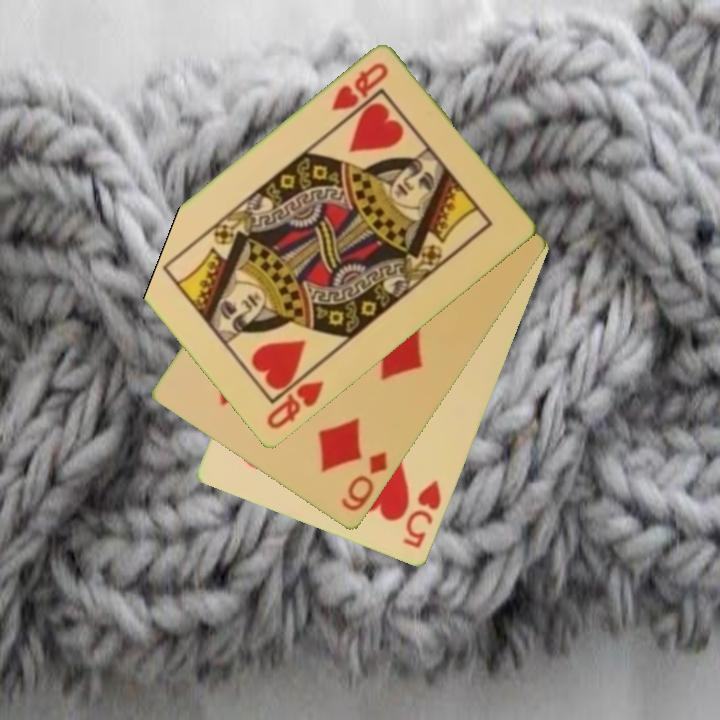5h: (399, 477, 445, 552)
6d: (337, 448, 391, 515)
Qh: (327, 59, 392, 115), (263, 377, 327, 433)
